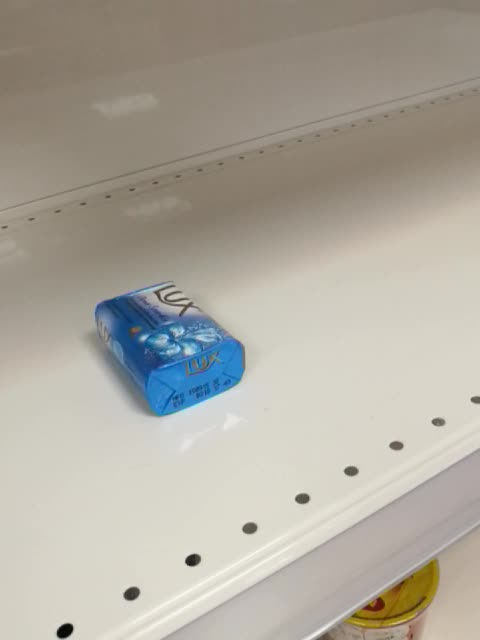soap: (91, 279, 249, 419)
